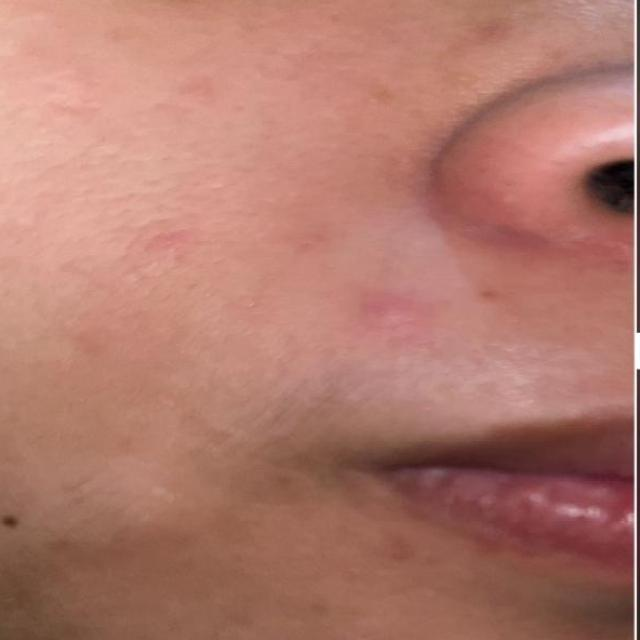papule: (349, 276, 471, 347)
